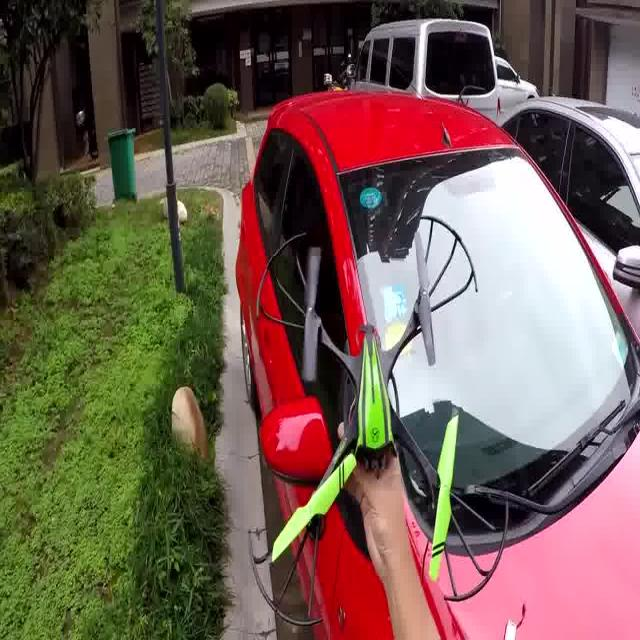drones: (242, 202, 514, 637)
